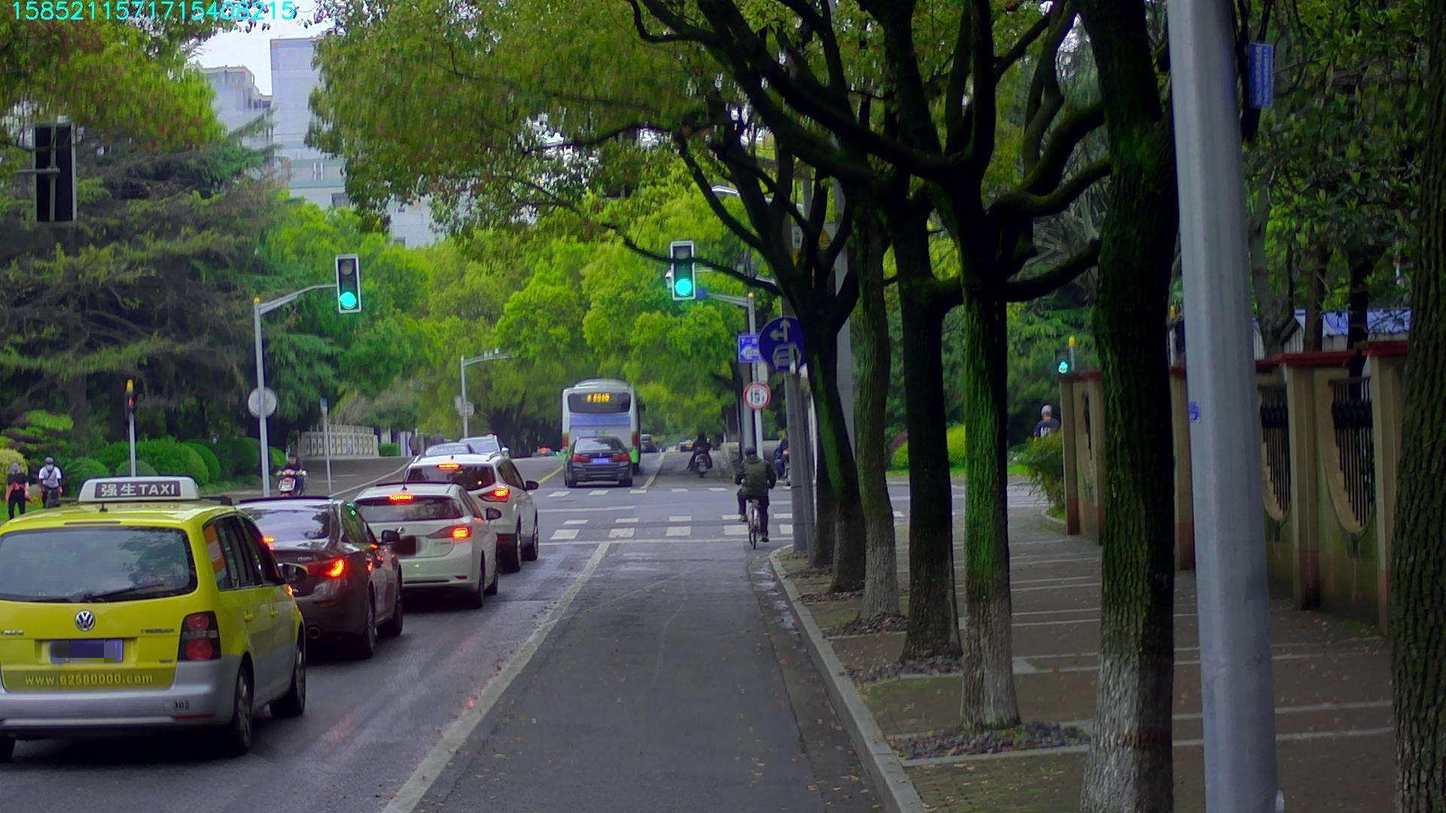green: (673, 243, 694, 298), (337, 258, 358, 311)
